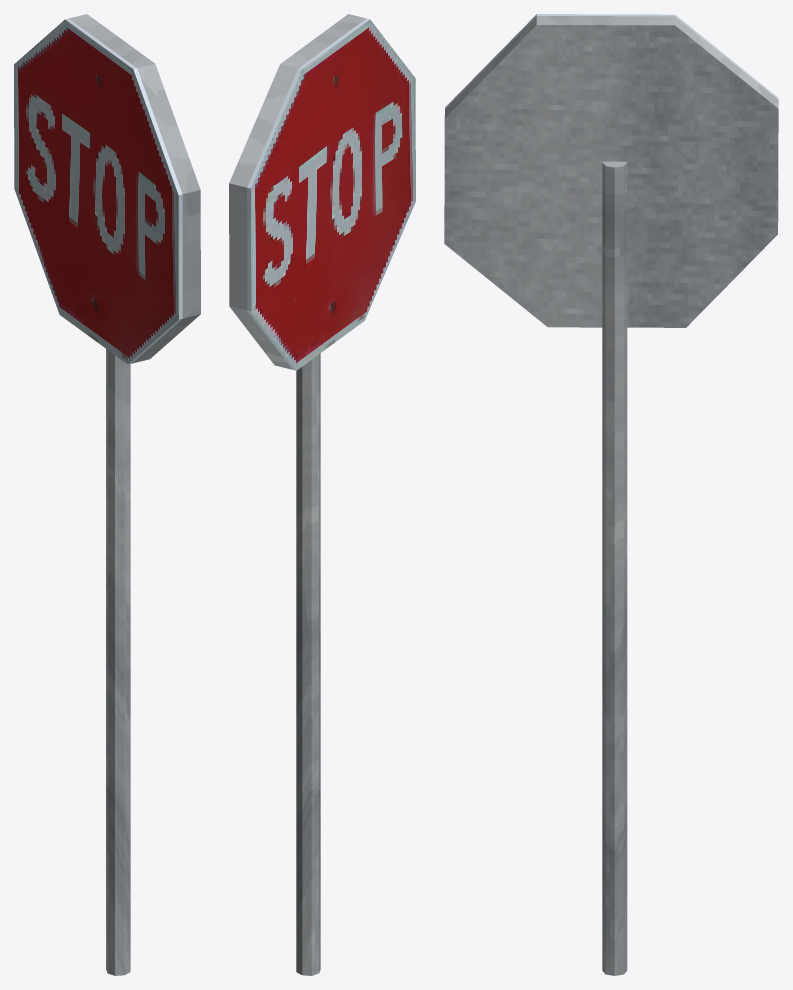
The model's file is StopSign.glb.
3 views of the same model, side by side, from view 1: azimuth 30°, elevation 25°; view 2: azimuth 150°, elevation 25°; view 3: azimuth 270°, elevation 25° (orthographic).
Parts seen in each view (by area): view 1: Cube; view 2: Cube; view 3: Cube.
Part boxes in pixels (x1=…): Cube: x1=14, y1=14, x2=200, y2=975; Cube: x1=229, y1=14, x2=415, y2=975; Cube: x1=444, y1=14, x2=778, y2=975.
Bounding box in the file's own units: 0.135 × 3.5 × 1.12.
Materials: 2 (2 with a texture image).
